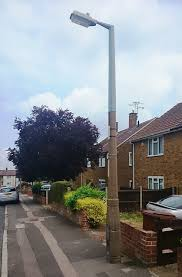light_pole: (98, 18, 128, 265)
